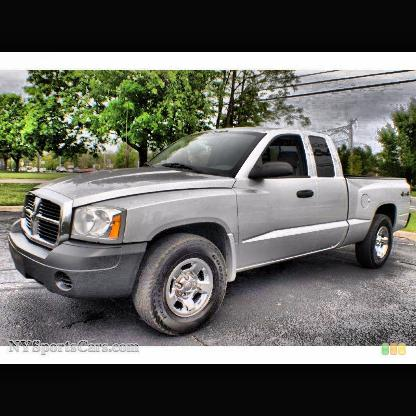Dodge Dakota Club Cab 2007: (7, 126, 414, 340)
